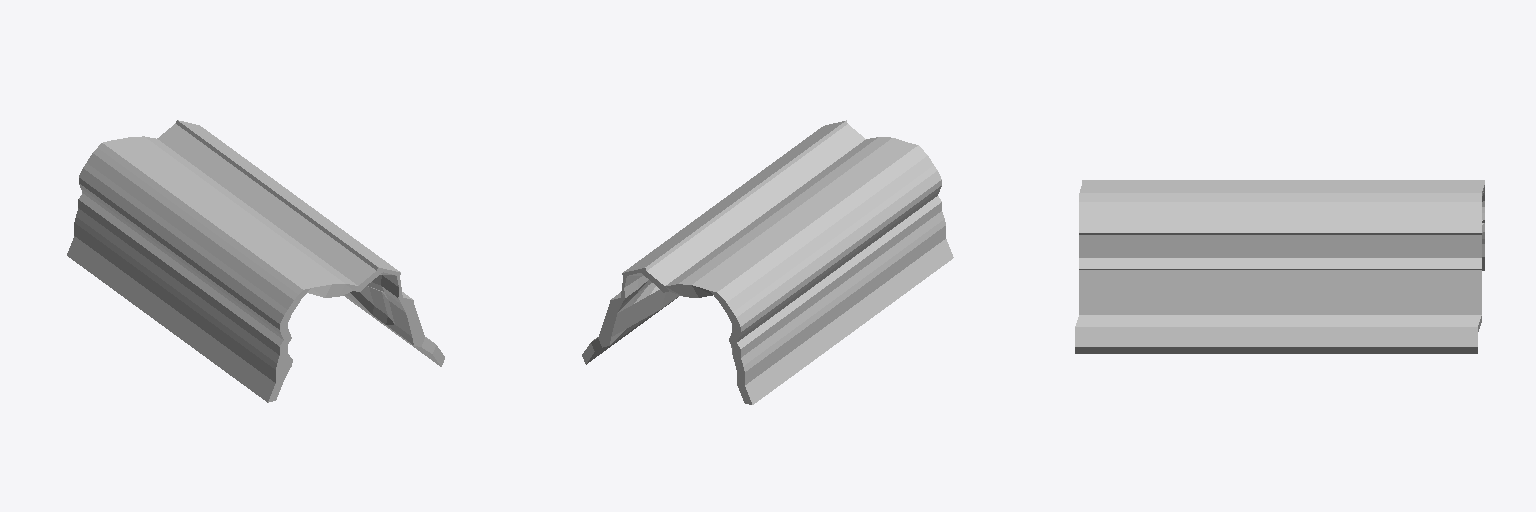
Rendered from straight_cave_wall.obj.
3 renders of one model, left to right at view 1: azimuth 30°, elevation 25°; view 2: azimuth 150°, elevation 25°; view 3: azimuth 270°, elevation 25°, orthographic.
Parts seen in each view (by area): view 1: Cube; view 2: Cube; view 3: Cube.
Boxes of the visible parts, x1=… form: Cube: x1=67, y1=120, x2=444, y2=402; Cube: x1=582, y1=120, x2=953, y2=404; Cube: x1=1075, y1=180, x2=1484, y2=353.
Size of the model in its own units: 41.96 by 26.18 by 85.38.